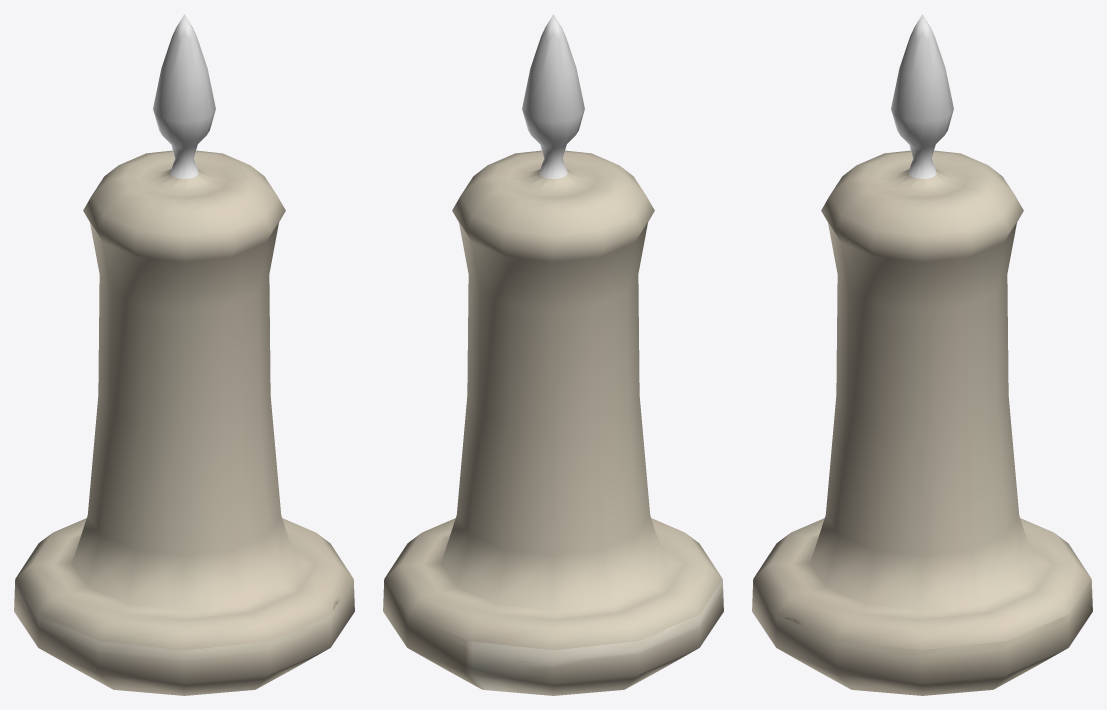
The model's file is Light.fbx.
The picture shows the model from 3 angles, left to right: view 1: azimuth 30°, elevation 25°; view 2: azimuth 150°, elevation 25°; view 3: azimuth 270°, elevation 25°; orthographic projection.
Parts seen in each view (by area): view 1: Cylinder; view 2: Cylinder; view 3: Cylinder.
Part boxes in pixels (bbox=[...]): Cylinder: bbox=[14, 14, 354, 695]; Cylinder: bbox=[383, 14, 723, 695]; Cylinder: bbox=[752, 14, 1092, 695].
Bounding box in the file's own units: 37.75 × 79.21 × 38.1.
